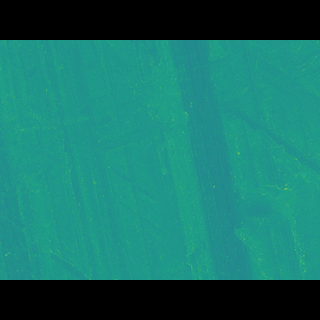Loch: (0, 69, 320, 178), (228, 175, 320, 249)
